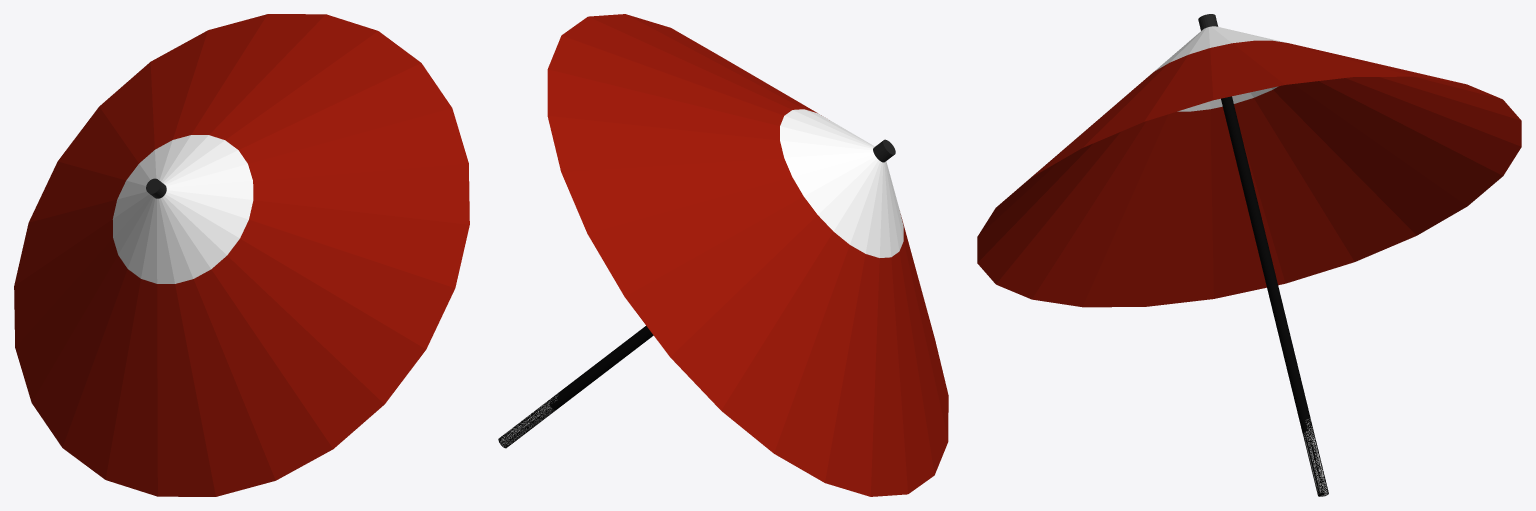
The model's file is parasol.gltf.
3 renders of one model, left to right at view 1: azimuth 30°, elevation 25°; view 2: azimuth 150°, elevation 25°; view 3: azimuth 270°, elevation 25°, orthographic. The views are drawn at different scales.
Parts seen in each view (by area): view 1: Circle.003; view 2: Circle.003; view 3: Circle.003.
Boxes of the visible parts, box(x1,y1,x2,y2) form: Circle.003: box(14, 14, 469, 496); Circle.003: box(498, 14, 948, 496); Circle.003: box(977, 14, 1521, 496).
Bounding box in the file's own units: 2.75 × 2.74 × 3.43.
